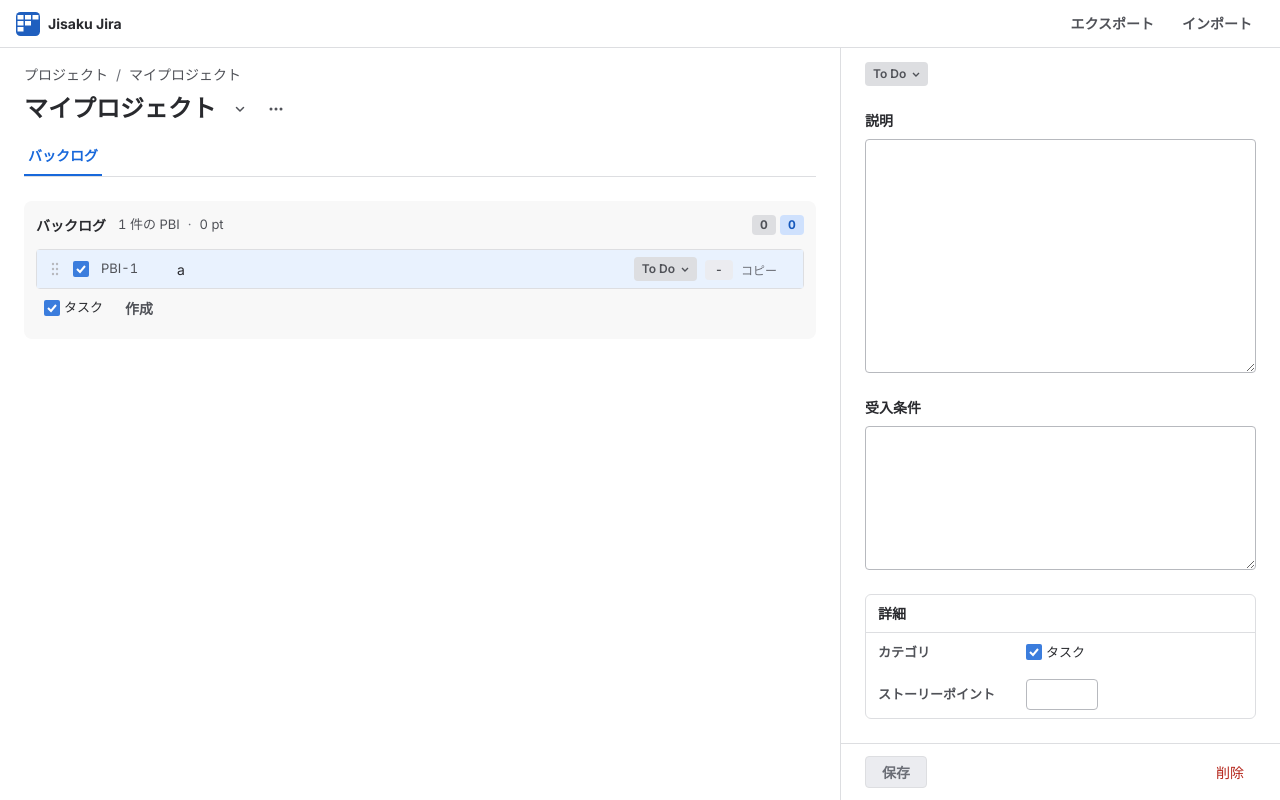
Test case: 詳細パネル › SP が負 のときはエラーを表示して保存しない
(page scrolled)
Type "-1" into the field labelled "ストーリーポイント" at {"x": 1062, "y": 695}, box x1=1026 y1=679 x2=1098 y2=710
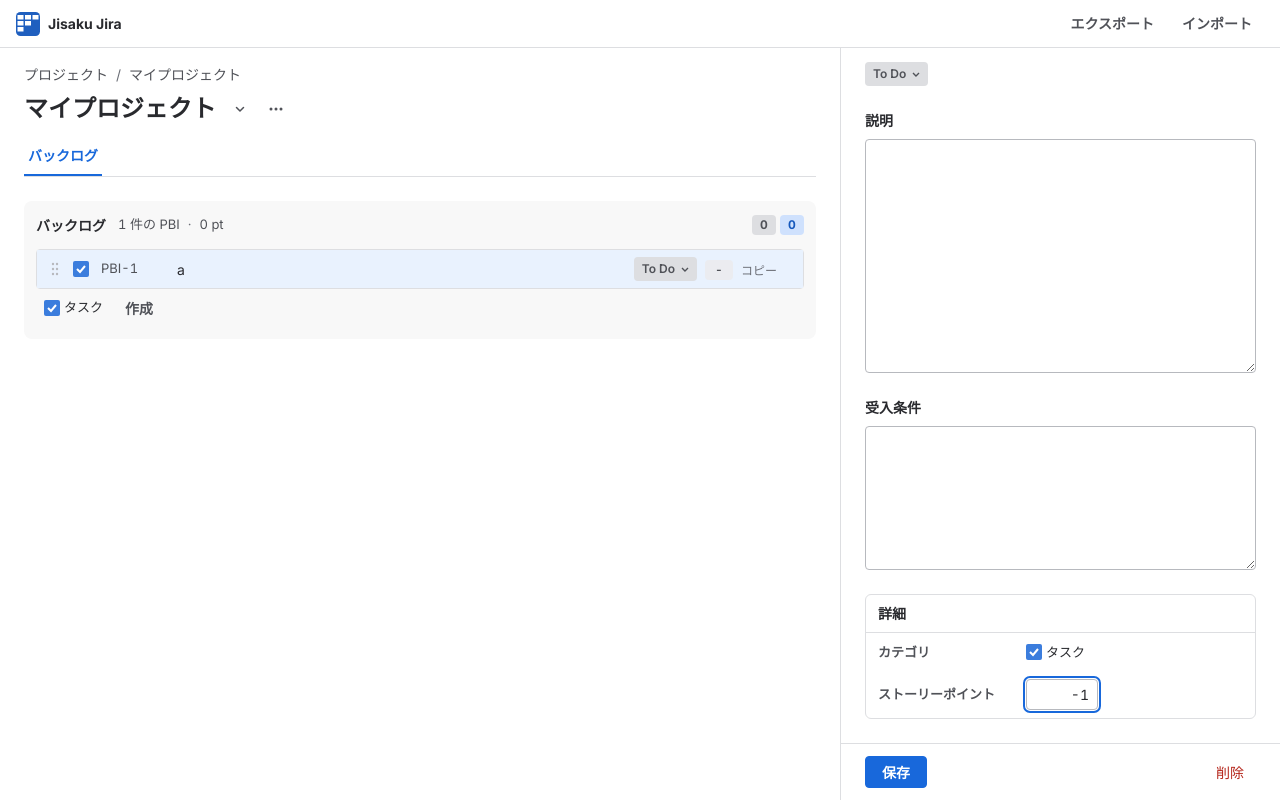
Click the button "保存" at {"x": 896, "y": 772}, box x1=865 y1=756 x2=927 y2=788
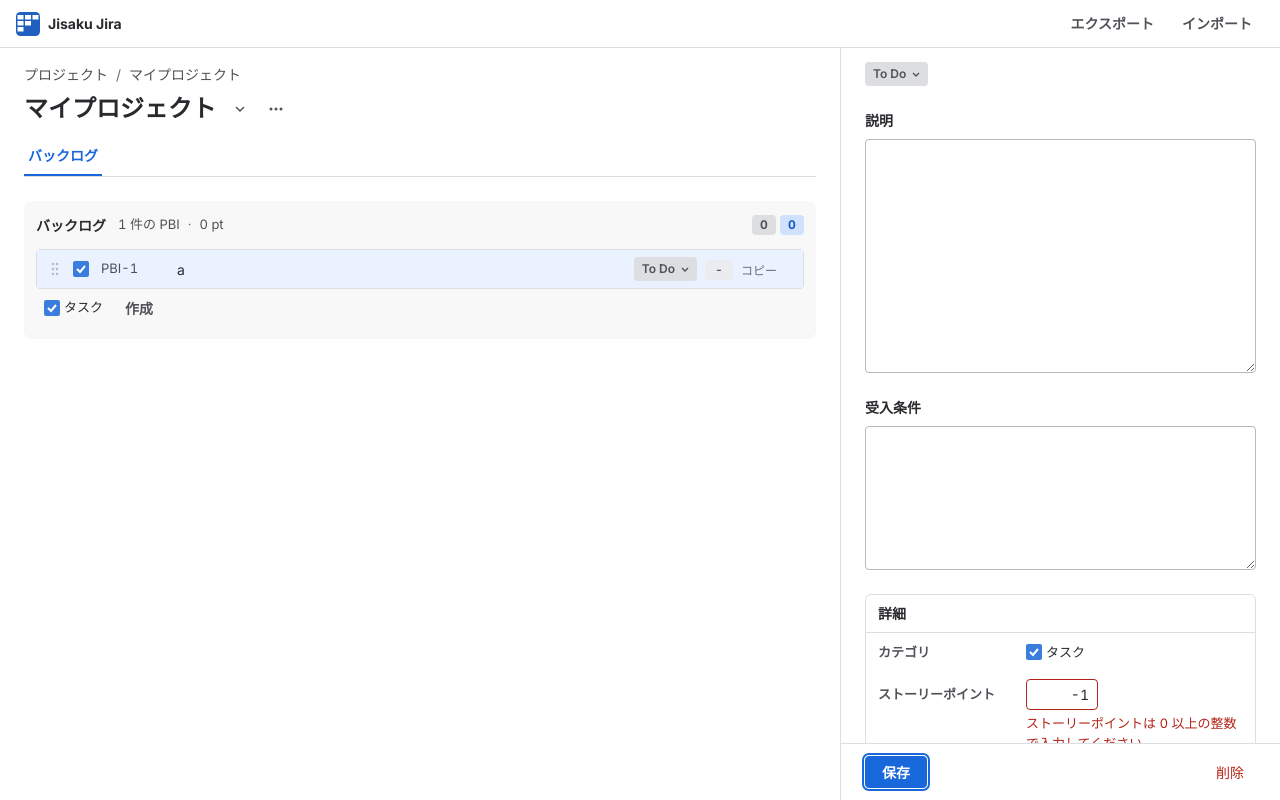
Now the message reads "ストーリーポイントは 0 以上の整数で入力してください", box x1=1026 y1=715 x2=1236 y2=751
